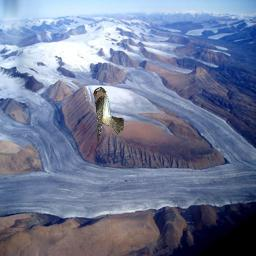Swallow: (93, 87, 124, 143)
